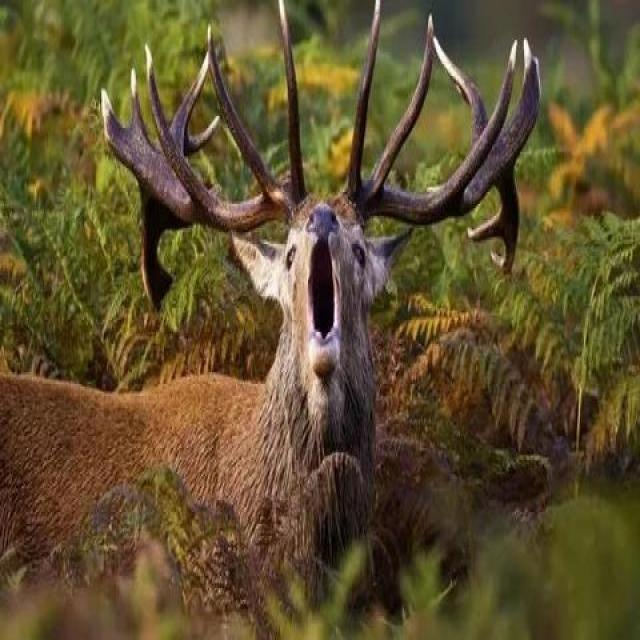deer: (0, 21, 499, 640)
